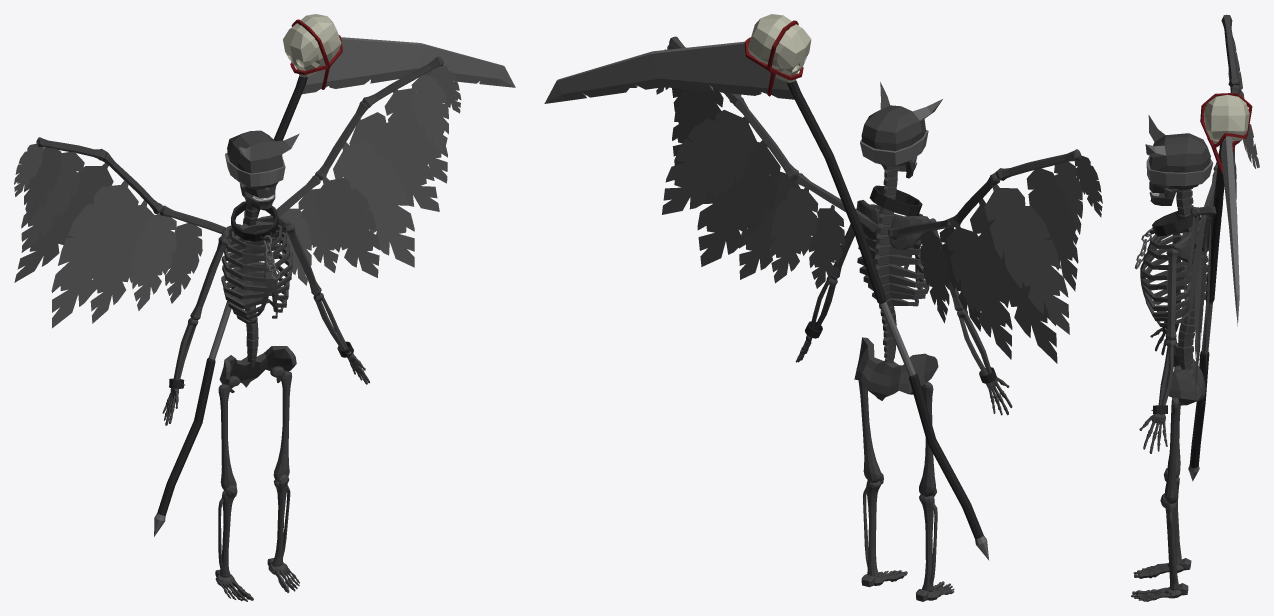
The model's file is LowPolySkeletonDeath.fbx.
The picture shows the model from 3 angles, left to right: view 1: azimuth 30°, elevation 25°; view 2: azimuth 150°, elevation 25°; view 3: azimuth 270°, elevation 25°; orthographic projection. The views are drawn at different scales.
Visible parts, largest first — view 1: Plane.013, Cylinder.001, Spine/Ripcage.002, Skull.002, Pelvis.002, FemurL.002, FemurR.002, Torus.002, Tibia/FibulaR.002, Tibia/FibulaL.002, Cylinder.002, HumerusR.008 (+4 smaller); view 2: Plane.013, Cylinder.001, Spine/Ripcage.002, Skull.002, Pelvis.002, Tibia/FibulaL.002, Tibia/FibulaR.002, FemurL.002, Cylinder.002, Torus.002, HumerusR.007, FemurR.002 (+4 smaller); view 3: Cylinder.001, Spine/Ripcage.002, Plane.013, Skull.002, Pelvis.002, FemurL.002, Torus.002, Cylinder.002, HumerusL.002, Tibia/FibulaL.002, Radius/UlnaL.002, HumerusR.005 (+11 smaller).
Boxes of the visible parts, x1=… form: Plane.013: x1=14, y1=65, x2=461, y2=328; Cylinder.001: x1=154, y1=14, x2=515, y2=536; Spine/Ripcage.002: x1=221, y1=194, x2=292, y2=367; Skull.002: x1=227, y1=130, x2=299, y2=197; Pelvis.002: x1=219, y1=346, x2=296, y2=392; FemurL.002: x1=270, y1=366, x2=292, y2=481; FemurR.002: x1=218, y1=375, x2=240, y2=491; Torus.002: x1=231, y1=201, x2=279, y2=279; Tibia/FibulaR.002: x1=218, y1=491, x2=234, y2=577; Tibia/FibulaL.002: x1=272, y1=479, x2=290, y2=566; Cylinder.002: x1=225, y1=153, x2=285, y2=186; HumerusR.008: x1=362, y1=56, x2=443, y2=107; Plane.013: x1=656, y1=44, x2=1102, y2=363; Cylinder.001: x1=544, y1=14, x2=989, y2=560; Spine/Ripcage.002: x1=857, y1=164, x2=929, y2=363; Skull.002: x1=861, y1=82, x2=942, y2=166; Pelvis.002: x1=854, y1=337, x2=938, y2=400; Tibia/FibulaL.002: x1=863, y1=480, x2=881, y2=578; Tibia/FibulaR.002: x1=919, y1=494, x2=937, y2=592; FemurL.002: x1=856, y1=368, x2=881, y2=482; Cylinder.002: x1=860, y1=130, x2=928, y2=165; Torus.002: x1=869, y1=185, x2=922, y2=216; HumerusR.007: x1=733, y1=97, x2=798, y2=180; FemurR.002: x1=919, y1=382, x2=935, y2=496; Cylinder.001: x1=1188, y1=93, x2=1252, y2=481; Spine/Ripcage.002: x1=1140, y1=188, x2=1208, y2=370; Plane.013: x1=1183, y1=14, x2=1259, y2=399; Skull.002: x1=1145, y1=115, x2=1210, y2=193; Pelvis.002: x1=1168, y1=343, x2=1205, y2=405; FemurL.002: x1=1164, y1=397, x2=1179, y2=503; Torus.002: x1=1135, y1=211, x2=1200, y2=269; Cylinder.002: x1=1146, y1=156, x2=1213, y2=186; HumerusL.002: x1=1165, y1=248, x2=1178, y2=340; Tibia/FibulaL.002: x1=1165, y1=501, x2=1178, y2=590; Radius/UlnaL.002: x1=1158, y1=340, x2=1176, y2=414; HumerusR.005: x1=1221, y1=15, x2=1240, y2=86.
Size of the model in its own units: 310 by 308 by 67.24.
